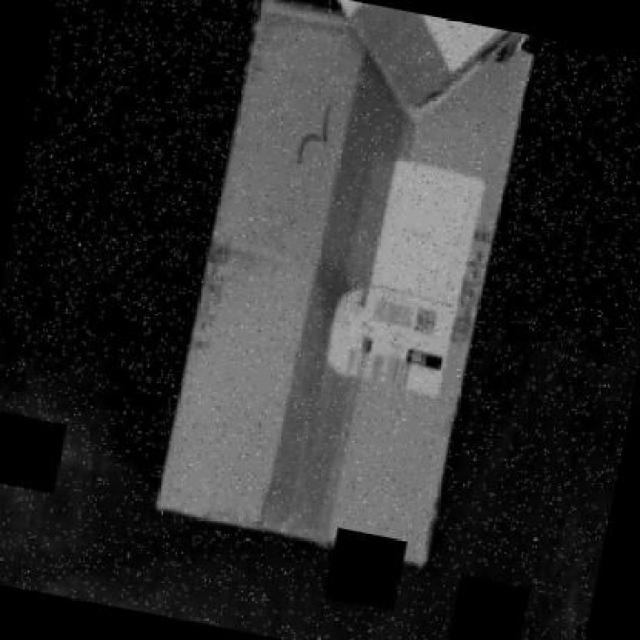box: (148, 0, 542, 574)
